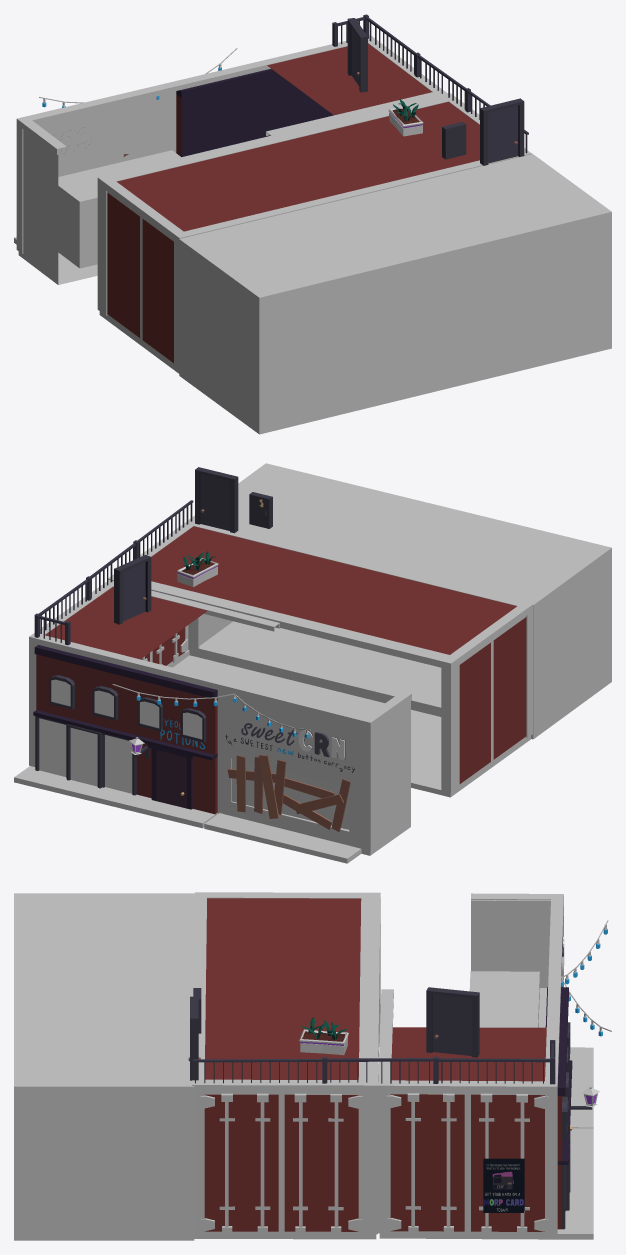
File: CMF1YeolsOldPotionsShop.fbx
The picture shows the model from 3 angles, top to bottom: view 1: azimuth 30°, elevation 25°; view 2: azimuth 150°, elevation 25°; view 3: azimuth 270°, elevation 25°; orthographic projection. The views are drawn at different scales.
Visible parts, largest first — view 1: F1Crates.066, F1BoxCrate.075, BoxCrate.074, F1BoxCrate.258, F1CrateFacade.002, CornerHome_Door.076, CornerHome_DoorFrame.086, CornerHome_DoorFrame.087, BalconyRailing.108, SecurityBox.015, BalconyRailing.103, Planter.019; view 2: F1BoxCrate.075, F1Crates.066, F1CrateFacade.002, BoxCrate.074, F1BoxCrate.258, Planks.007, Platform.020, Platform.024, SnackDandy.002, CornerHome_Door.062, CornerHome_Door.076, CornerHome_Door.078 (+10 smaller); view 3: F1Crates.066, F1BoxCrate.075, F1BoxCrate.258, BoxCrate.074, F1CrateFacade.002, Platform.020, CornerHome_Door.078, Platform.024, CornerHome_DoorFrame.087, BalconyRailing.108, BalconyRailing.103, Planter.019 (+3 smaller).
Part boxes in pixels (box(x1,y1,x2,y2)): F1Crates.066: box(179, 153, 611, 434); F1BoxCrate.075: box(97, 93, 531, 373); BoxCrate.074: box(16, 77, 198, 284); F1BoxCrate.258: box(194, 35, 446, 135); F1CrateFacade.002: box(176, 69, 333, 157); CornerHome_Door.076: box(488, 105, 518, 163); CornerHome_DoorFrame.086: box(480, 98, 524, 165); CornerHome_DoorFrame.087: box(347, 18, 367, 92); BalconyRailing.108: box(363, 14, 420, 77); SecurityBox.015: box(442, 122, 466, 159); BalconyRailing.103: box(417, 55, 470, 112); Planter.019: box(388, 107, 423, 136); F1BoxCrate.075: box(108, 519, 532, 797); F1Crates.066: box(188, 463, 611, 739); F1CrateFacade.002: box(33, 645, 217, 814); BoxCrate.074: box(199, 676, 411, 855); F1BoxCrate.258: box(29, 580, 279, 766); Planks.007: box(227, 755, 350, 831); Platform.020: box(14, 766, 217, 828); Platform.024: box(204, 813, 361, 863); SnackDandy.002: box(231, 758, 349, 829); CornerHome_Door.062: box(156, 750, 186, 808); CornerHome_Door.076: box(200, 474, 229, 530); CornerHome_Door.078: box(123, 562, 146, 621); F1Crates.066: box(14, 893, 194, 1240); F1BoxCrate.075: box(192, 892, 380, 1239); F1BoxCrate.258: box(378, 989, 560, 1239); BoxCrate.074: box(469, 893, 563, 1027); F1CrateFacade.002: box(545, 987, 572, 1229); Platform.020: box(556, 1128, 593, 1239); CornerHome_Door.078: box(432, 994, 471, 1055); Platform.024: box(569, 1047, 593, 1128); CornerHome_DoorFrame.087: box(426, 987, 479, 1057); BalconyRailing.108: box(433, 1056, 555, 1084); BalconyRailing.103: box(322, 1057, 433, 1083); Planter.019: box(299, 1029, 348, 1055).
Size of the model in its own units: 2444 by 1270 by 3178.
